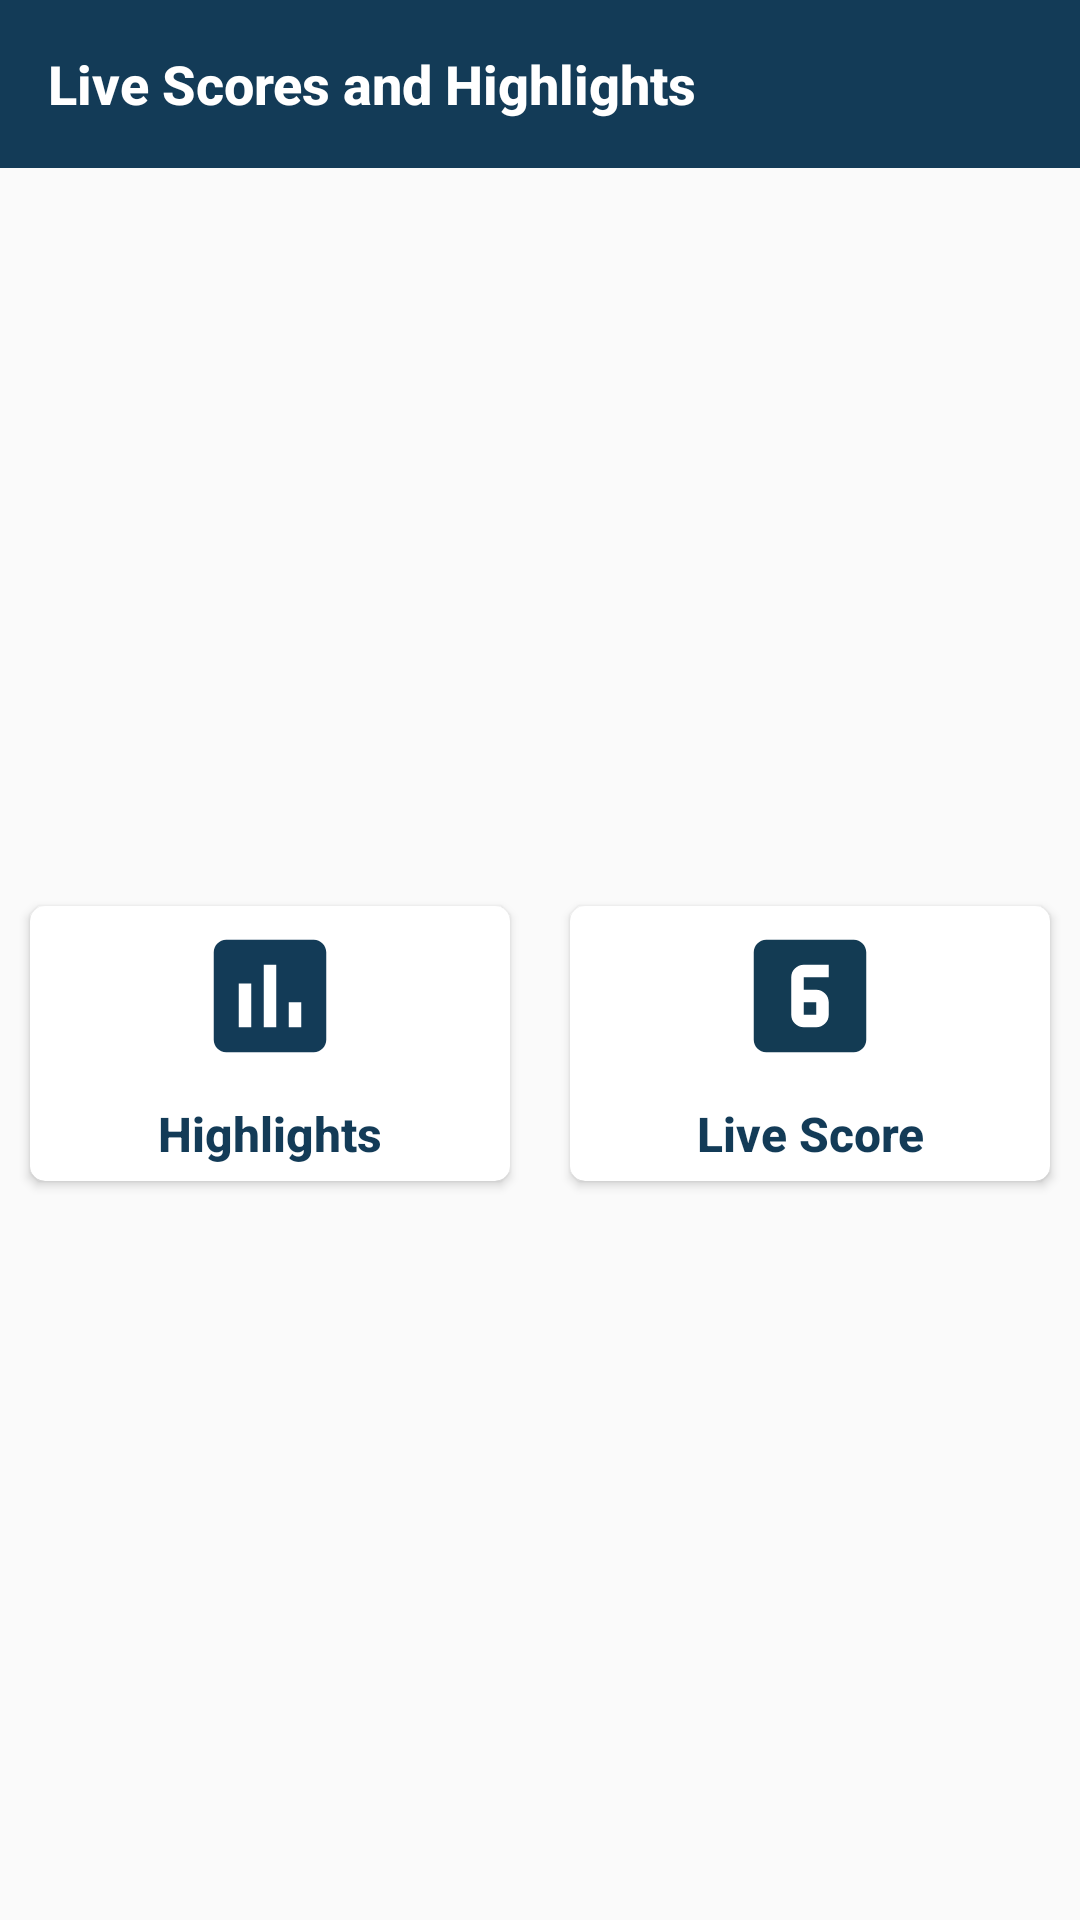

Screen size 1080 × 1920. Icon name, then its box in pixels as (x1,y1,x2,y2):
assessment: (213,939,327,1053)
